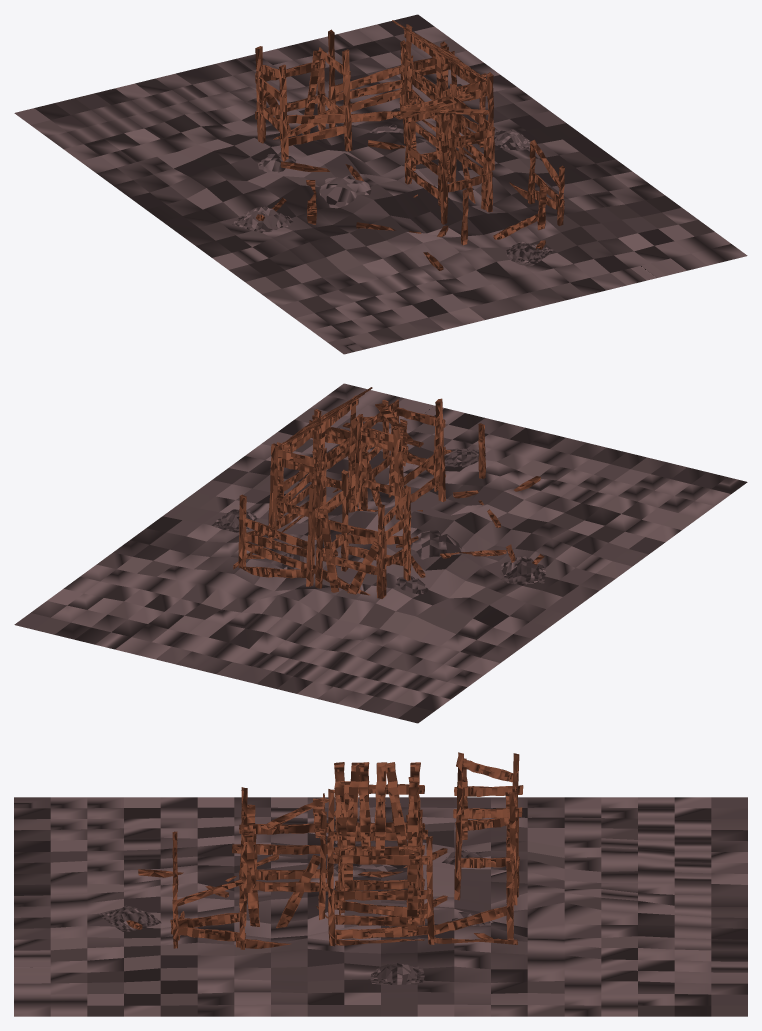
File: BurntHouseAsset.fbx
The picture shows the model from 3 angles, top to bottom: view 1: azimuth 30°, elevation 25°; view 2: azimuth 150°, elevation 25°; view 3: azimuth 270°, elevation 25°; orthographic projection. The views are drawn at different scales.
Visible parts, largest first — view 1: BurntHouse; view 2: BurntHouse; view 3: BurntHouse.
Part boxes in pixels (x1,y1,x2,y2): BurntHouse: (14,14,747,354); BurntHouse: (14,383,747,723); BurntHouse: (14,752,747,1016).
Size of the model in its own units: 4187 by 1500 by 5922.
